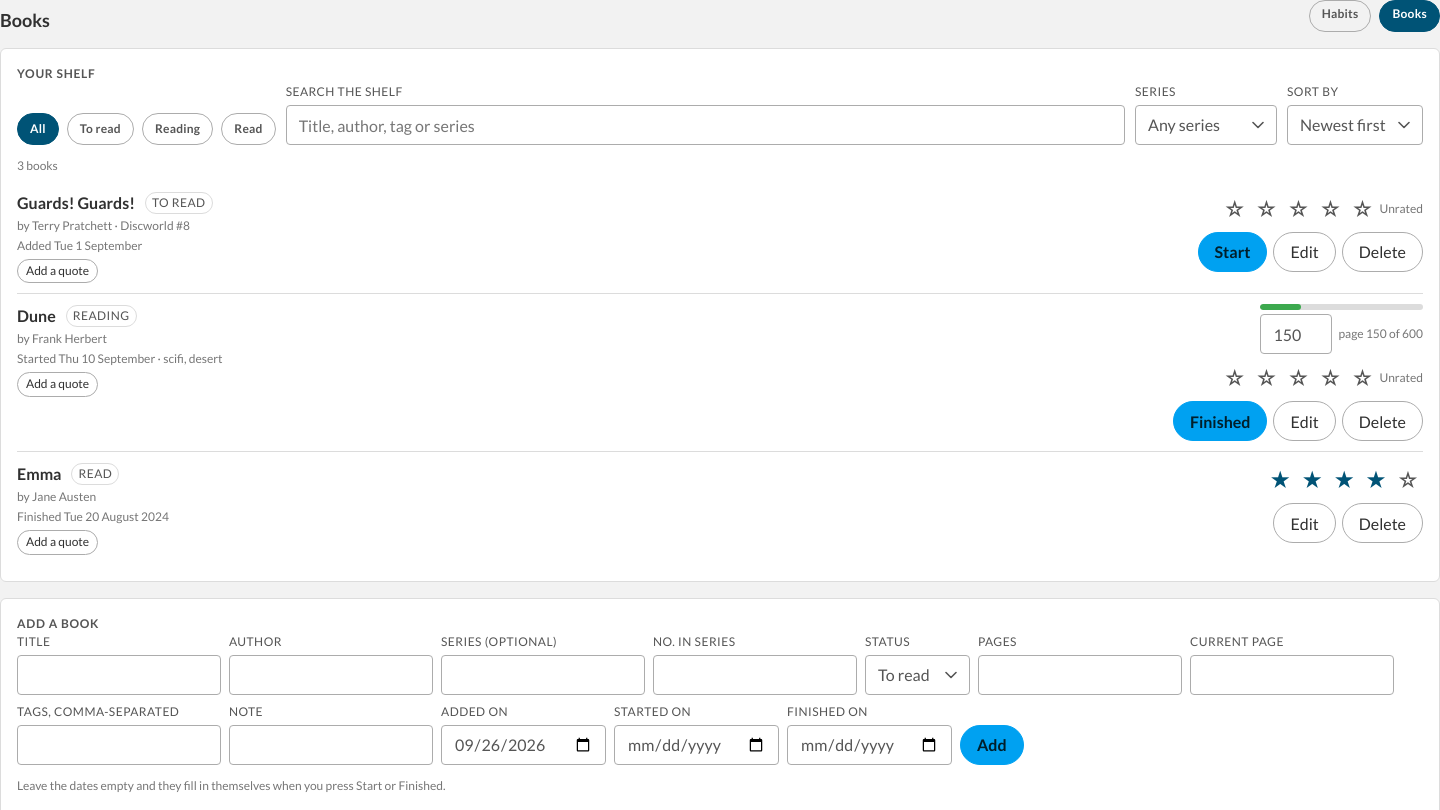
Scenario: BooksPage › names the failure in the reader's words when the server refuses
The image size is (1440, 810).
Expected: the text "Guards! Guards!" is shown, [17, 191, 135, 215]
Step 1. Type "Mort" into the field labelled "Title" → (119, 675), box [17, 655, 221, 695]
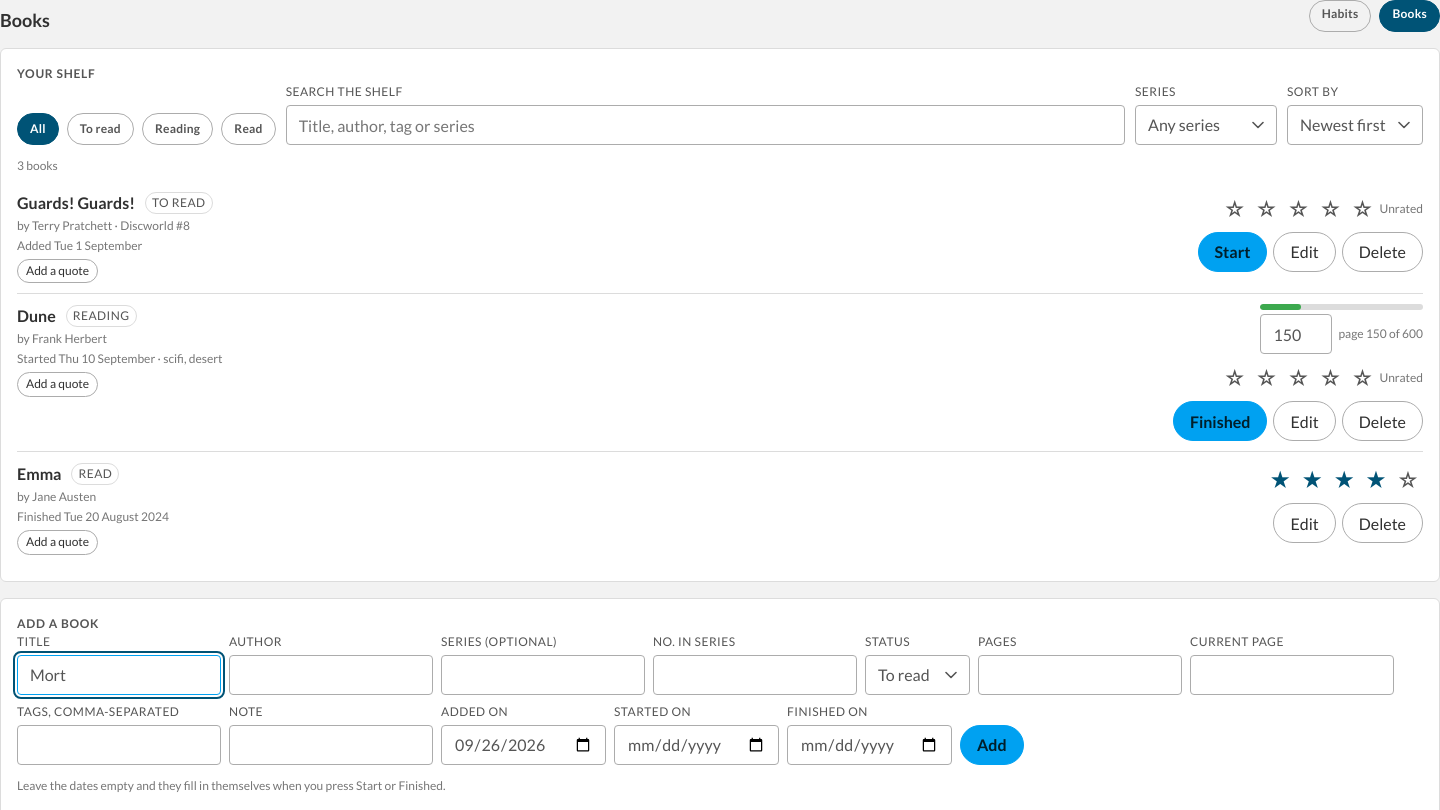
Step 2. Type "Terry Pratchett" into the field labelled "Author" → (331, 675), box [229, 655, 433, 695]
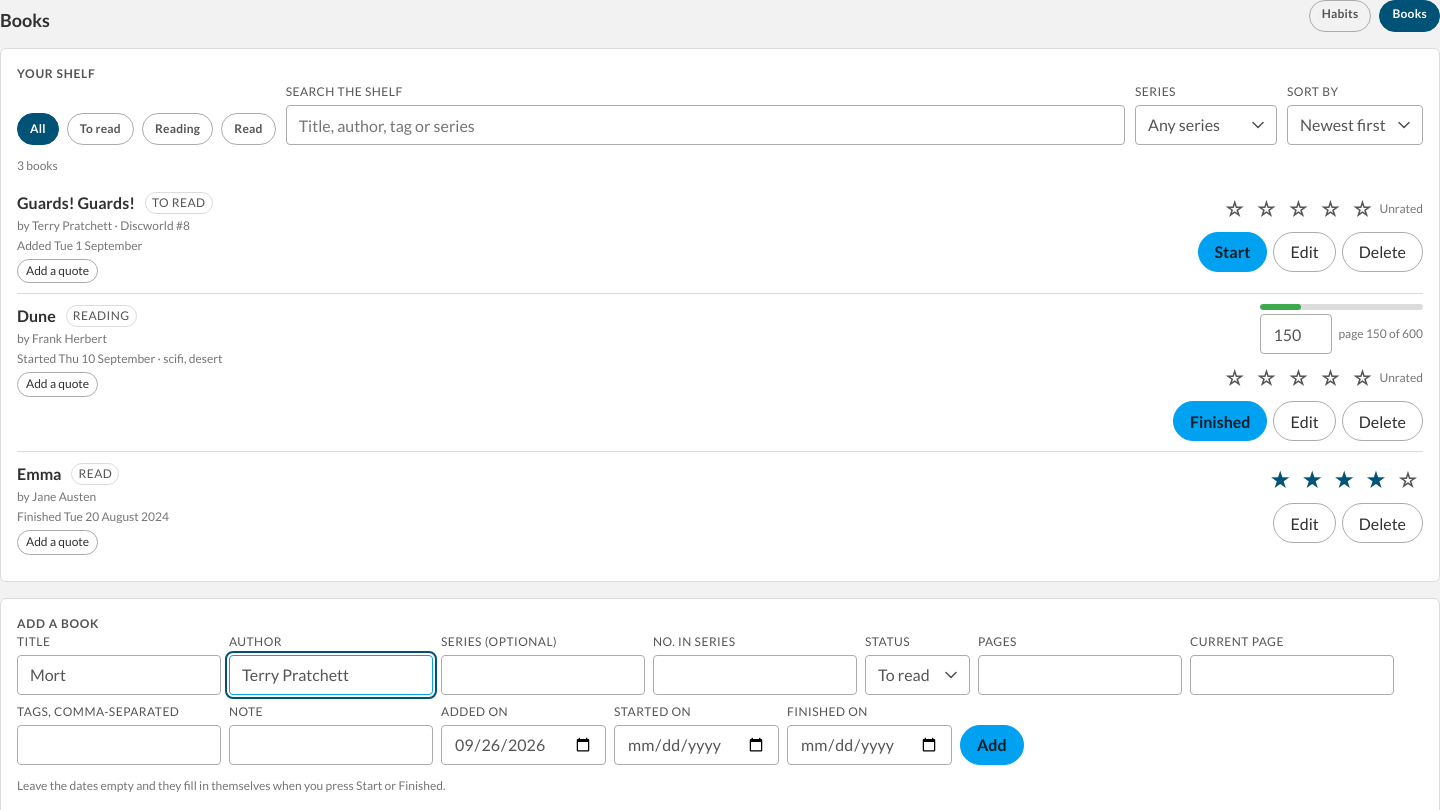
Step 3. Click the button "Add" → (992, 745), box [960, 725, 1024, 765]
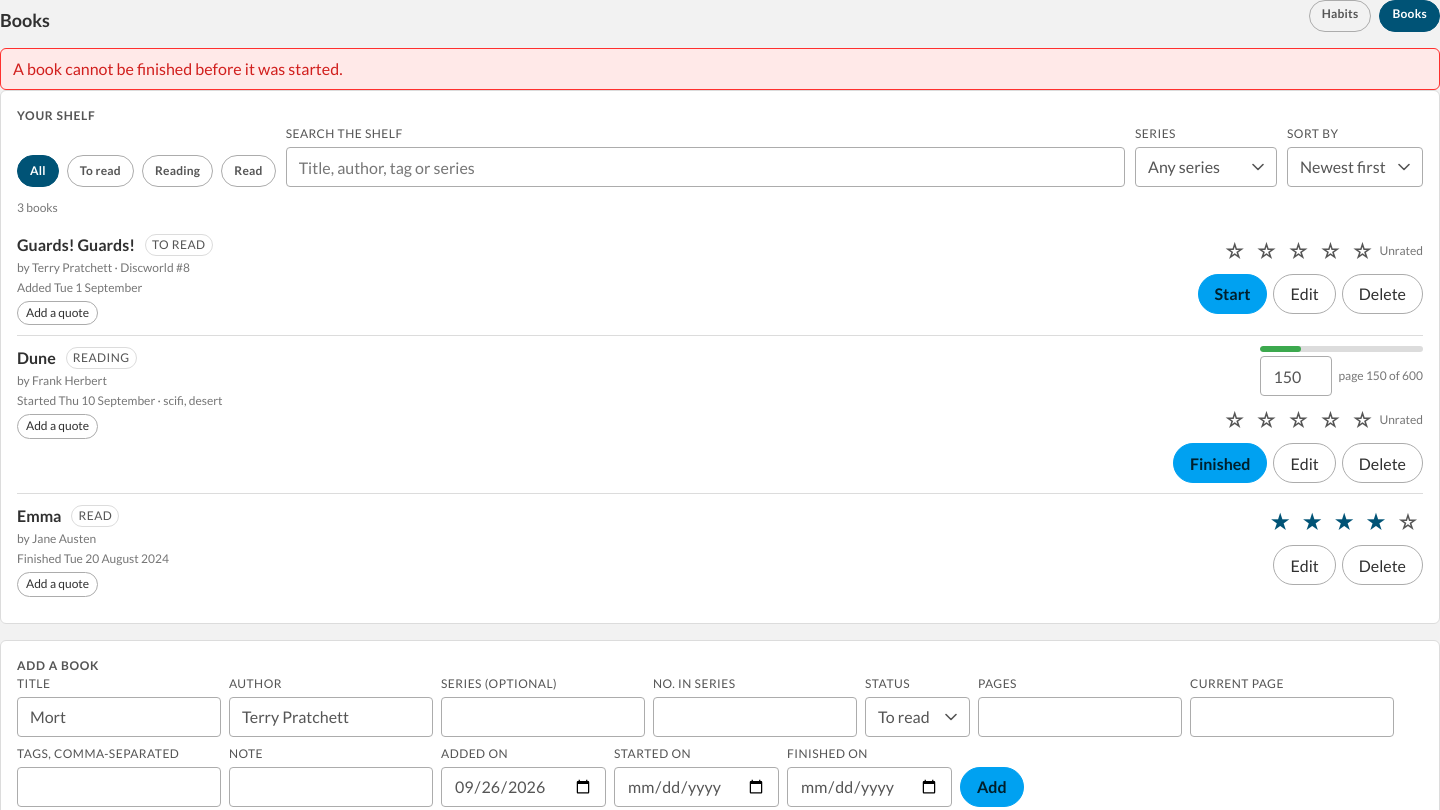
Result: the message reads "A book cannot be finished before it was started." at [13, 59, 342, 78]
